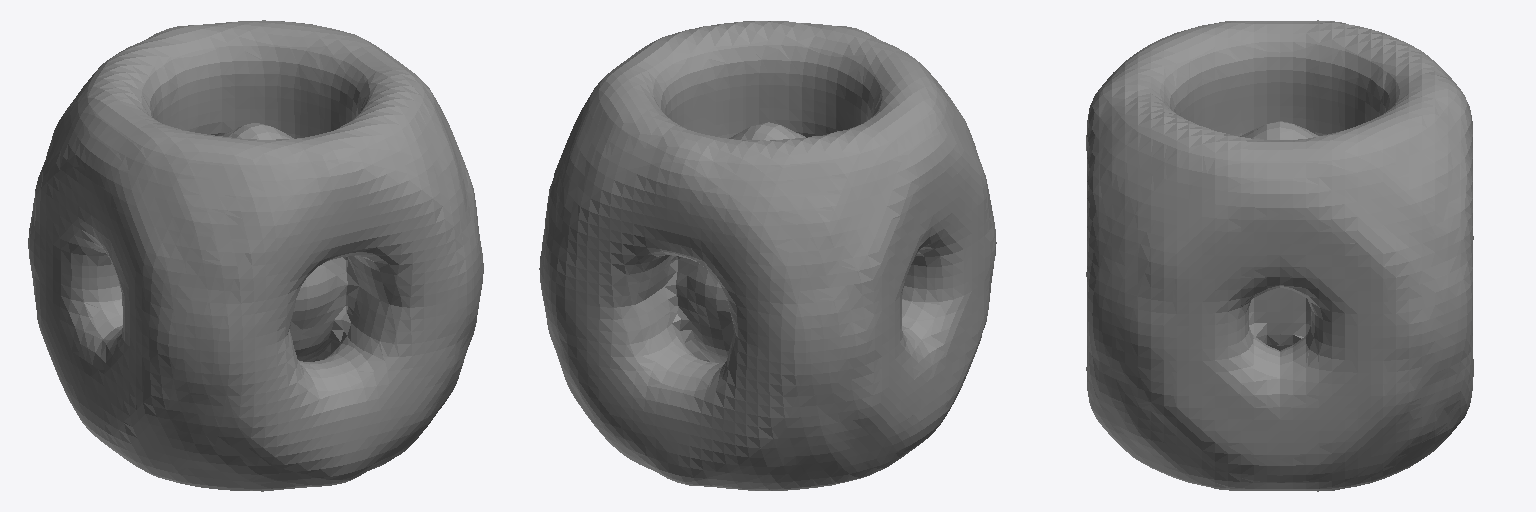
robot.urdf — cube.urdf:
<?xml version="0.0" ?> 
<robot name="cube.urdf"> 
<link name="legobrick"> 
<contact> 
<lateral_friction value="5.0"/> 
<rolling_friction value="0.0"/> 
<contact_cfm value="0.0"/> 
<contact_erp value="1.0"/> 
</contact> 
<inertial> 
<origin rpy="0 0 0" xyz="0.0 0.0 0.0"/> 
<mass value=".01"/> 
<inertia ixx="1" ixy="0" ixz="0" iyy="1" iyz="0" izz="1"/> 
</inertial> 
<visual> 
<origin rpy="1.570796 0 0" xyz="-0.02583422779800572 0.02582283715244114 -0.02582904713608393"/> 
<geometry> 
<mesh filename="I10_3.obj" scale="0.0006997794089742712 0.0006997794089742712 0.0006997794089742712"/> 
</geometry> 
<material name="yellow"> 
<color rgba="0.6 0.6 0.6 1"/> 
</material> 
</visual> 
<collision> 
<origin rpy="1.570796 0 0" xyz="-0.02583422779800572 0.02582283715244114 -0.02582904713608393"/> 
<geometry> 
<mesh filename="I10_3.obj" scale="0.0006997794089742712 0.0006997794089742712 0.0006997794089742712"/> 
</geometry> 
</collision> 
</link> 
</robot>

--- Facts derived from the render (not from the file) ---
Views: 3 orthographic renders of the robot side by side, from view 1: azimuth 30°, elevation 25°; view 2: azimuth 150°, elevation 25°; view 3: azimuth 270°, elevation 25°.
Model cube.urdf with 1 links and 0 joints (none), rooted at legobrick, posed all joints at 0.
Links seen in each view (by area): view 1: legobrick; view 2: legobrick; view 3: legobrick.
Link boxes in pixels (box(x1,y1,x2,y2)): legobrick: box(28, 20, 483, 491); legobrick: box(539, 21, 996, 490); legobrick: box(1086, 20, 1473, 491).
Size in the robot's own frame: 0.0559 by 0.056 by 0.056 metres.
Meshes: 1 distinct files referenced, 1 mesh visuals loaded (1 OBJ).
